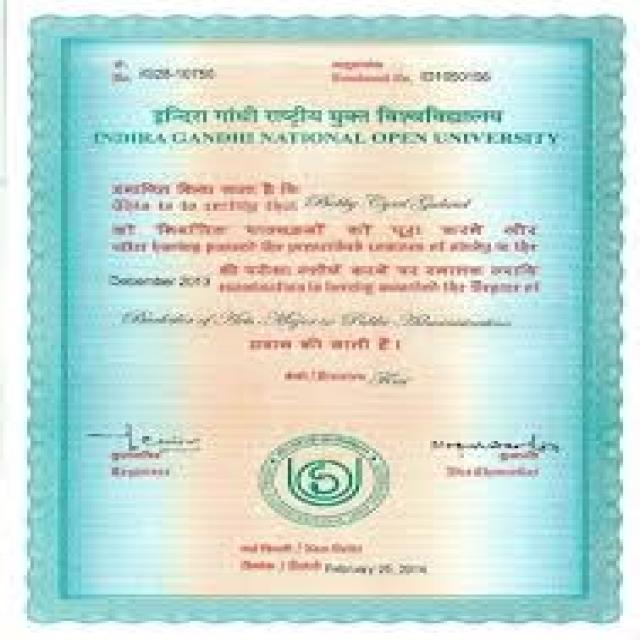signature: (420, 423, 584, 478), (88, 414, 217, 462)
stamp: (251, 426, 392, 527)
